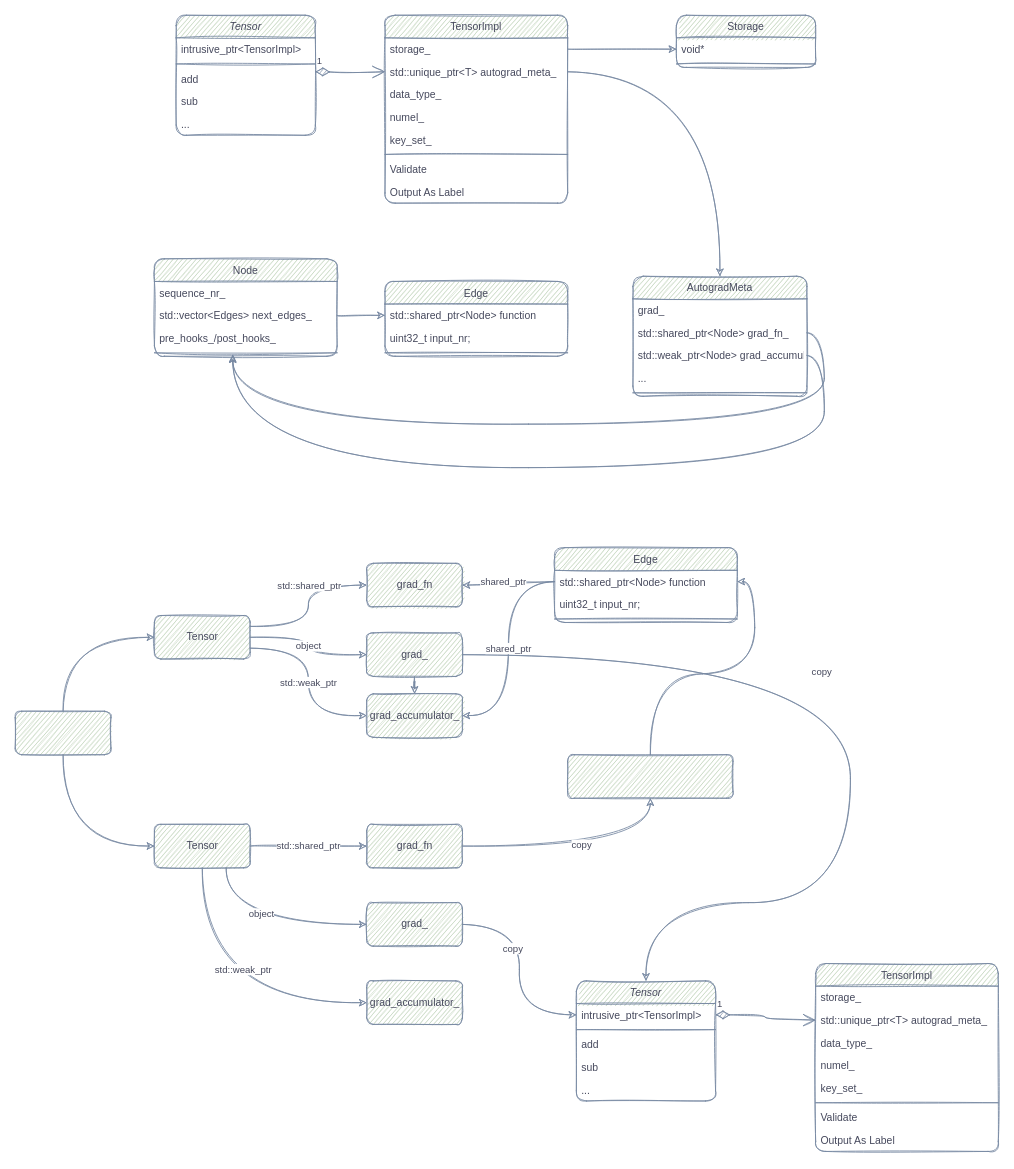
The diagram is 1014 pixels wide and 1169 high, and some of its shapes have lost their labels. The shapes that lost their labels are listed below. From the top down, each one's centre as x and y in pixels, then its label:
the point at 62,732: UserEnd
the point at 650,776: std::vector<Edge> grad_edges
